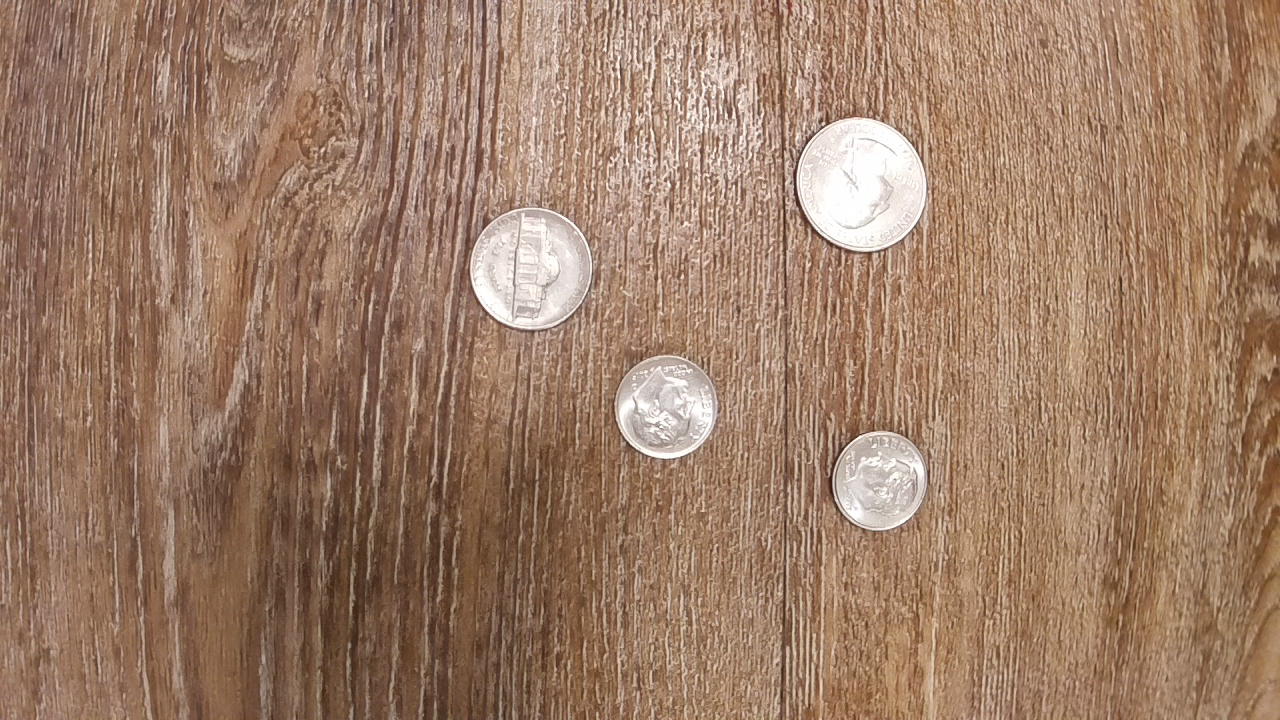dime: (610, 352, 722, 462), (826, 428, 932, 534)
nickel: (465, 202, 595, 334)
quarter: (790, 114, 932, 258)
